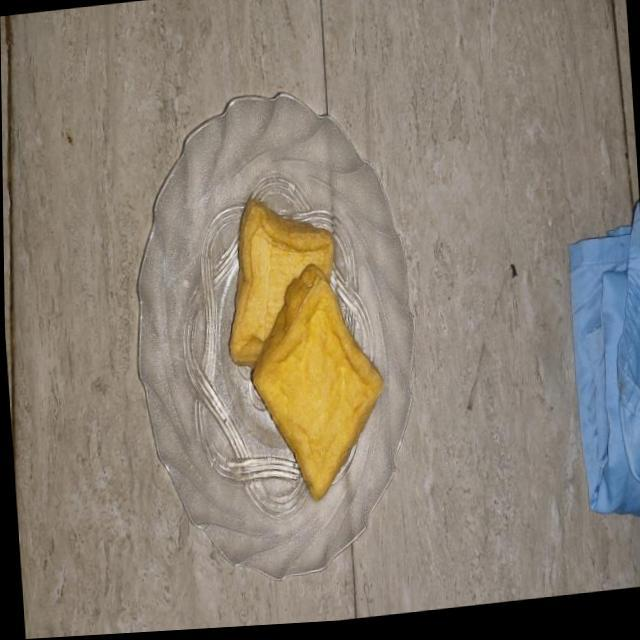tahu_goreng: (252, 264, 384, 501), (230, 199, 334, 368)
